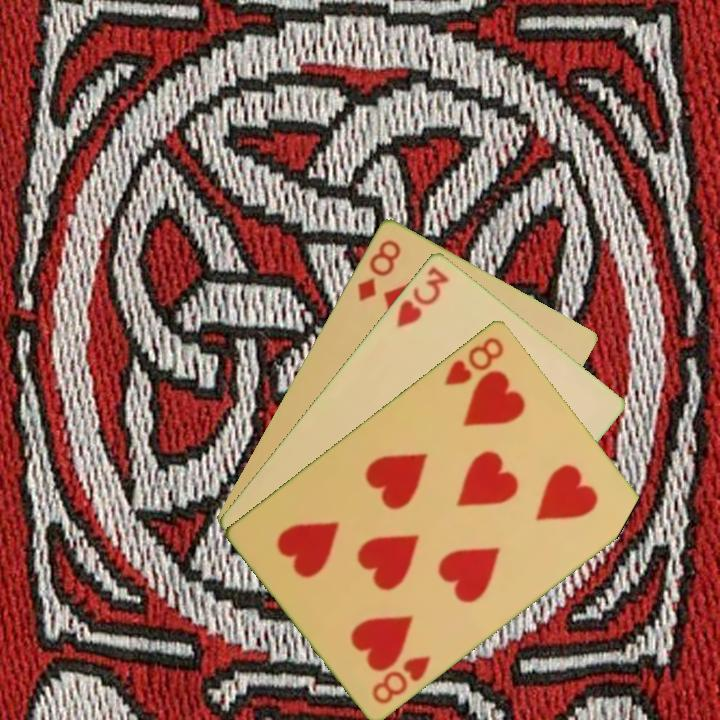3h: (392, 262, 452, 331)
8d: (353, 235, 404, 304)
8h: (440, 332, 507, 389), (368, 651, 434, 707)
